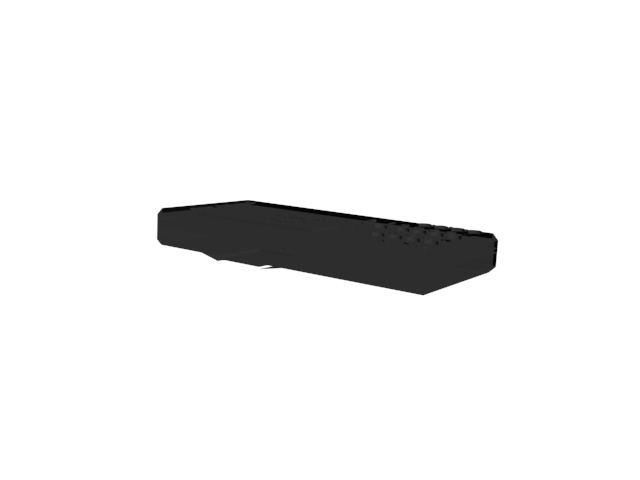mobile_phone: (153, 196, 504, 296)
